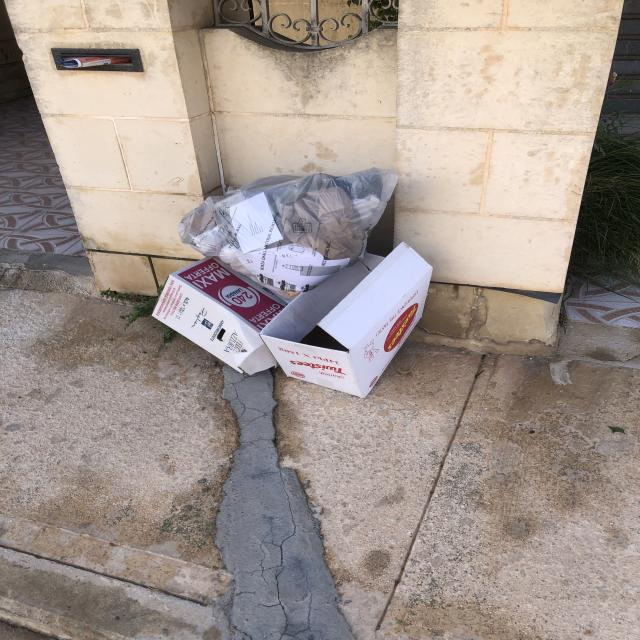Other: (261, 242, 435, 401), (153, 259, 288, 376)
Recycled Waste -Grey or Green Bag-: (179, 168, 402, 304)
